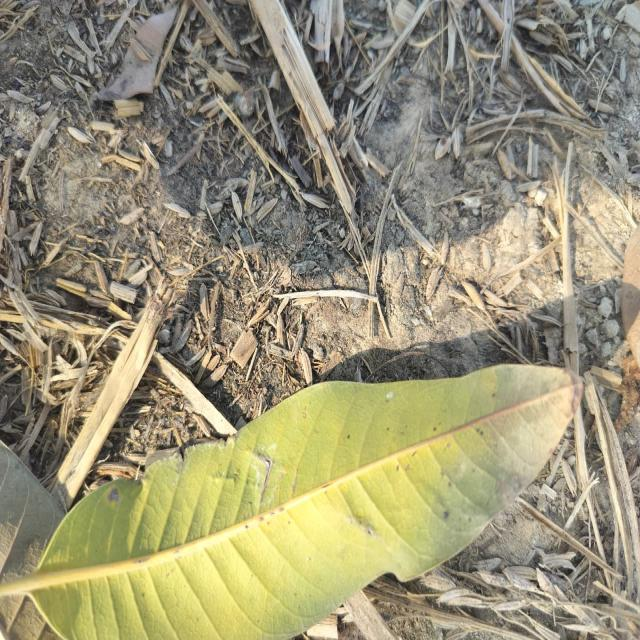Bacterial Cancer: (257, 450, 278, 498), (104, 487, 127, 507)
